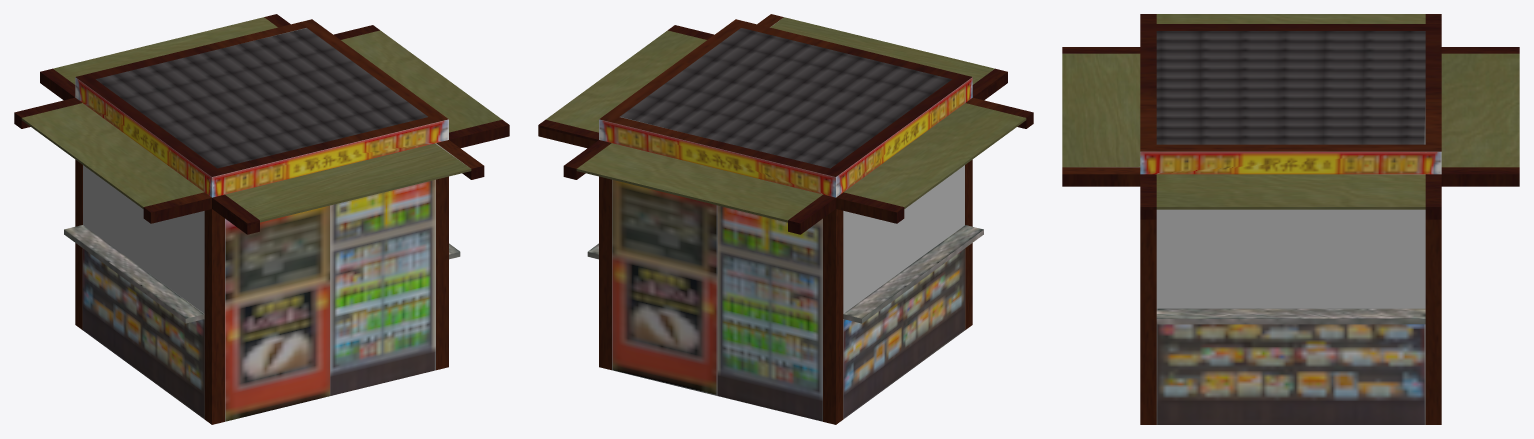
The model's file is kiosk.fbx.
3 views of the same model, side by side, from view 1: azimuth 30°, elevation 25°; view 2: azimuth 150°, elevation 25°; view 3: azimuth 270°, elevation 25° (orthographic). The views are drawn at different scales.
Visible parts, largest first — view 1: Cube, Plane; view 2: Cube, Plane; view 3: Cube, Plane.
Boxes of the visible parts, left/top/right/bottom form: Cube: left=14, top=14, right=509, bottom=424; Plane: left=83, top=165, right=204, bottom=313; Cube: left=538, top=14, right=1033, bottom=424; Plane: left=843, top=165, right=964, bottom=313; Cube: left=1062, top=14, right=1519, bottom=424; Plane: left=1156, top=209, right=1425, bottom=308.
Bounding box in the file's own units: 3397 × 2242 × 3399.
